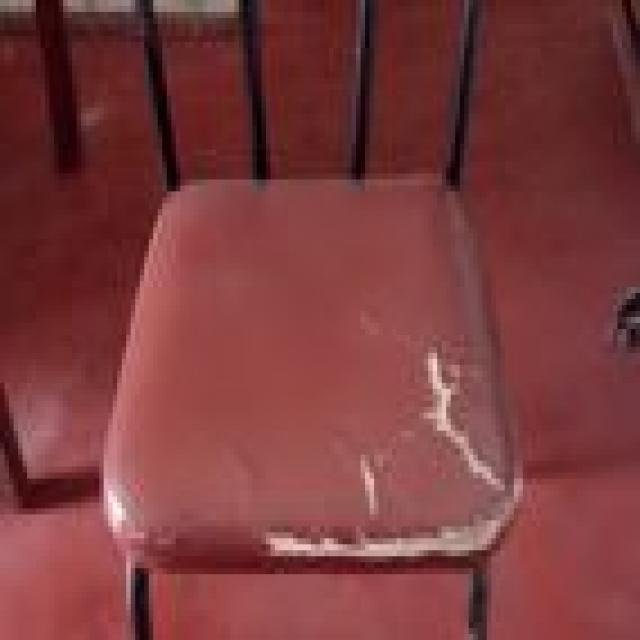others: (90, 6, 532, 640)
